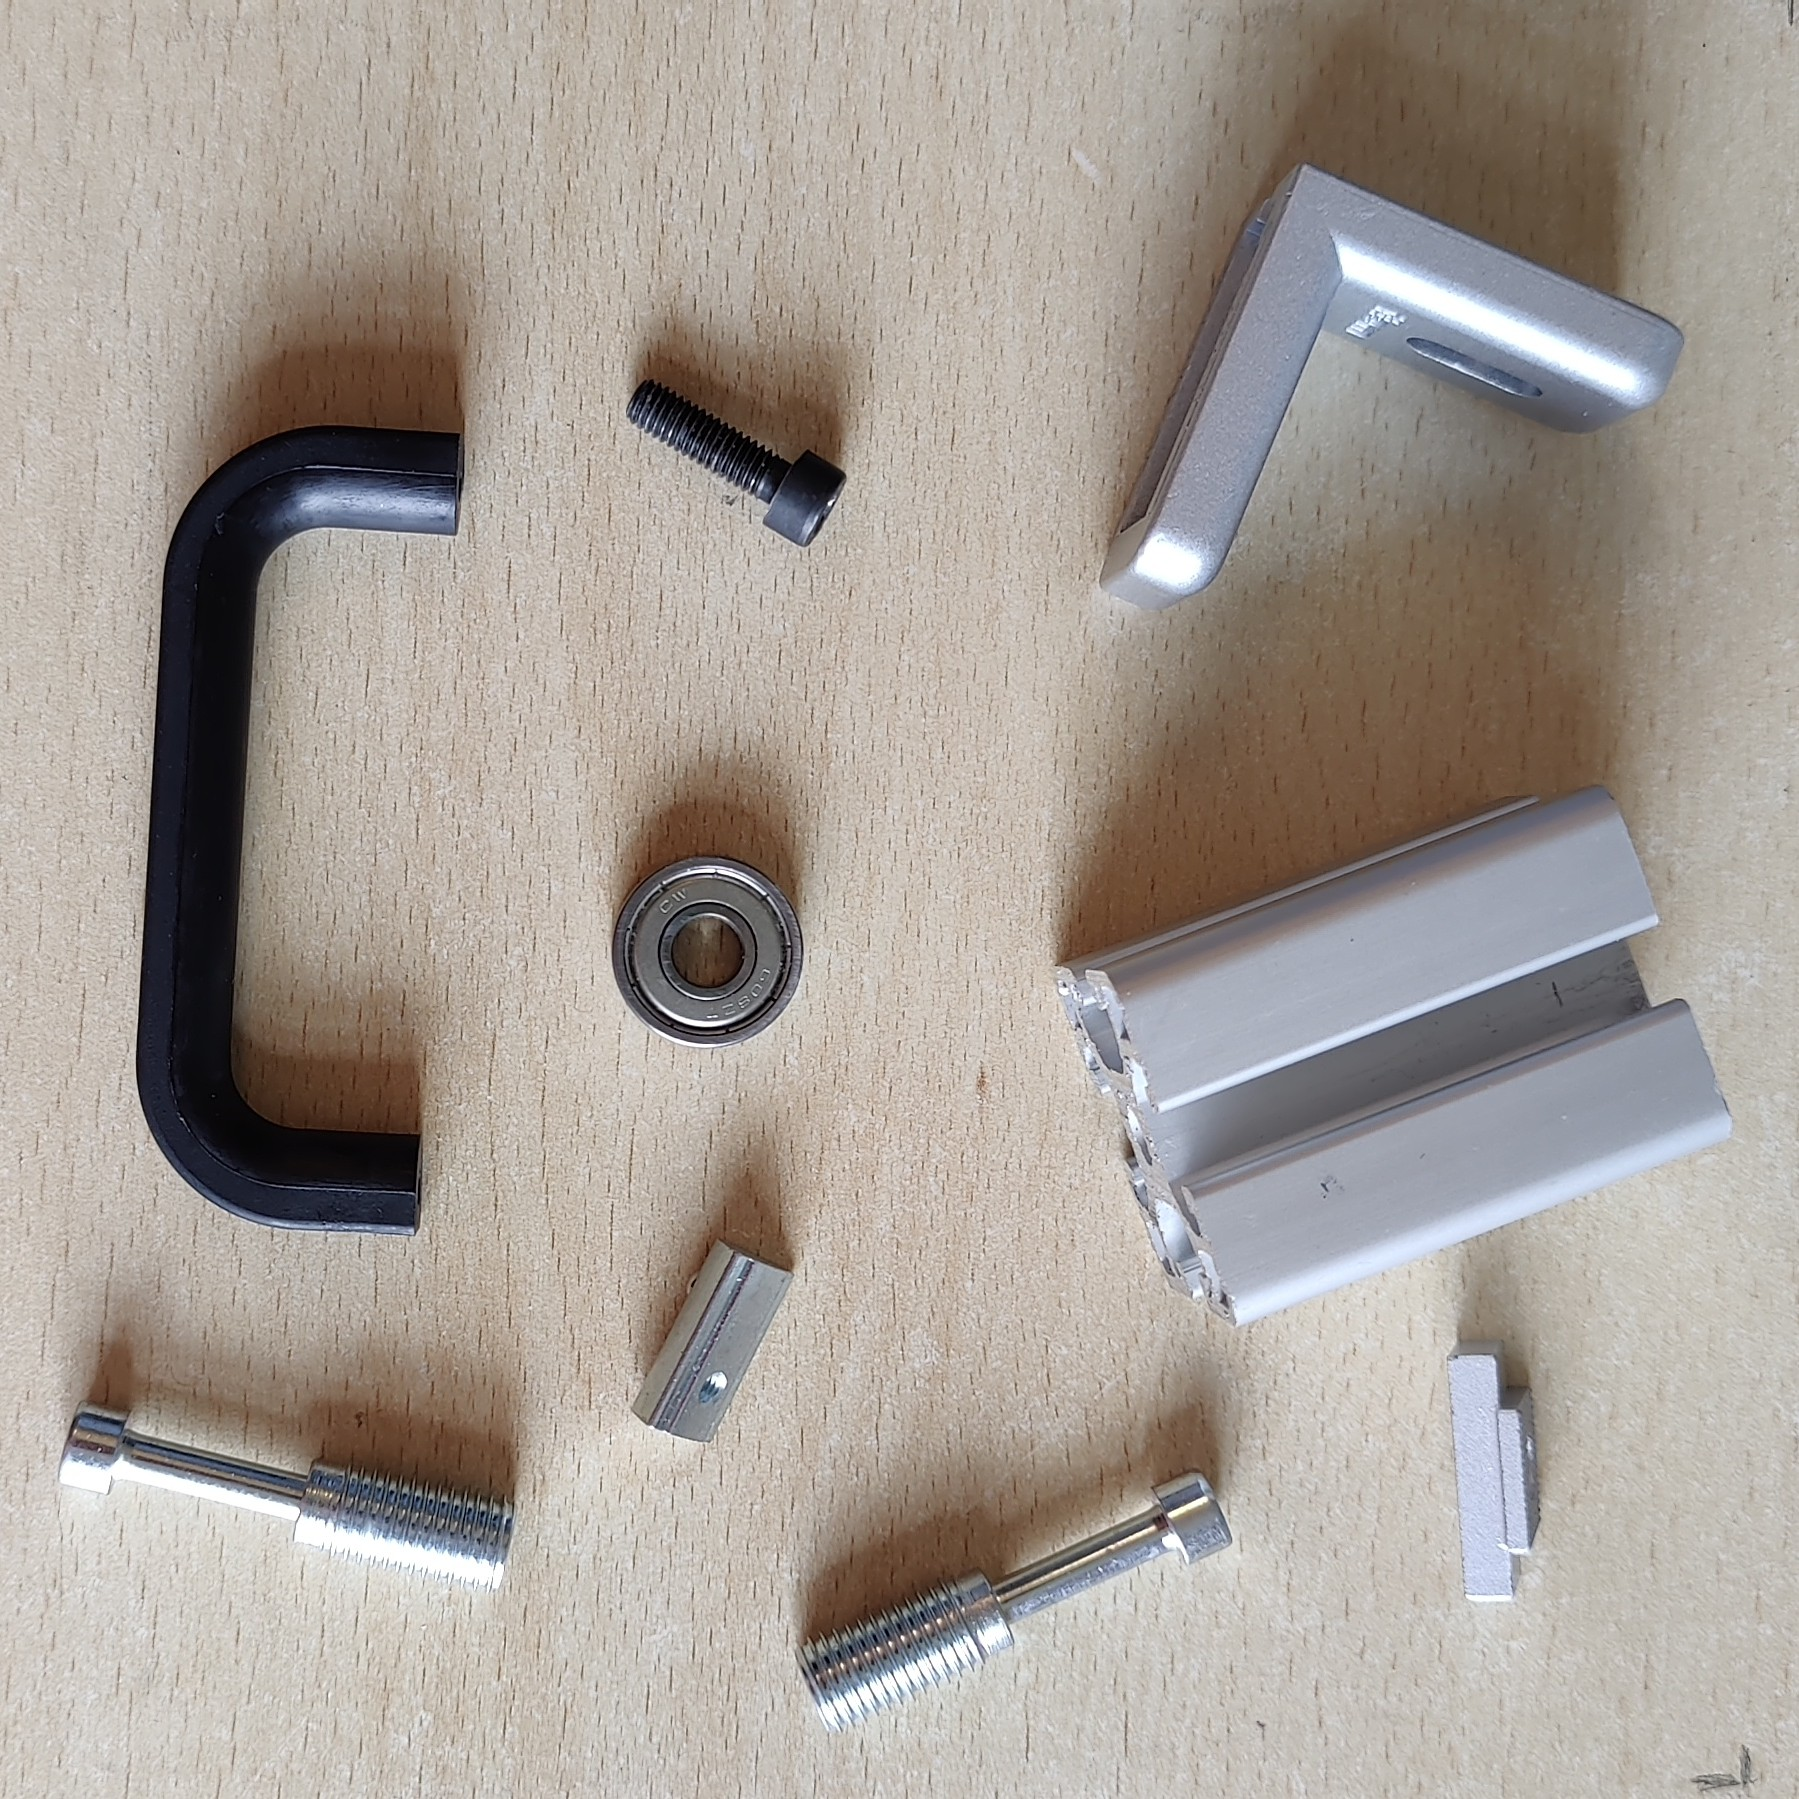Aluminium Extension: (1049, 783, 1741, 1326)
Ball Bearing: (610, 850, 804, 1053)
Multiwinkel: (1096, 158, 1689, 614)
Pull Handle: (137, 423, 466, 1237)
Shoulder Socket Head Cap Screw: (791, 1465, 1234, 1740), (58, 1399, 519, 1596)
Socket Head Cap Screw: (623, 372, 848, 549)
T Nut Square: (1442, 1334, 1545, 1610)
T Spring Nut: (628, 1236, 792, 1445)
